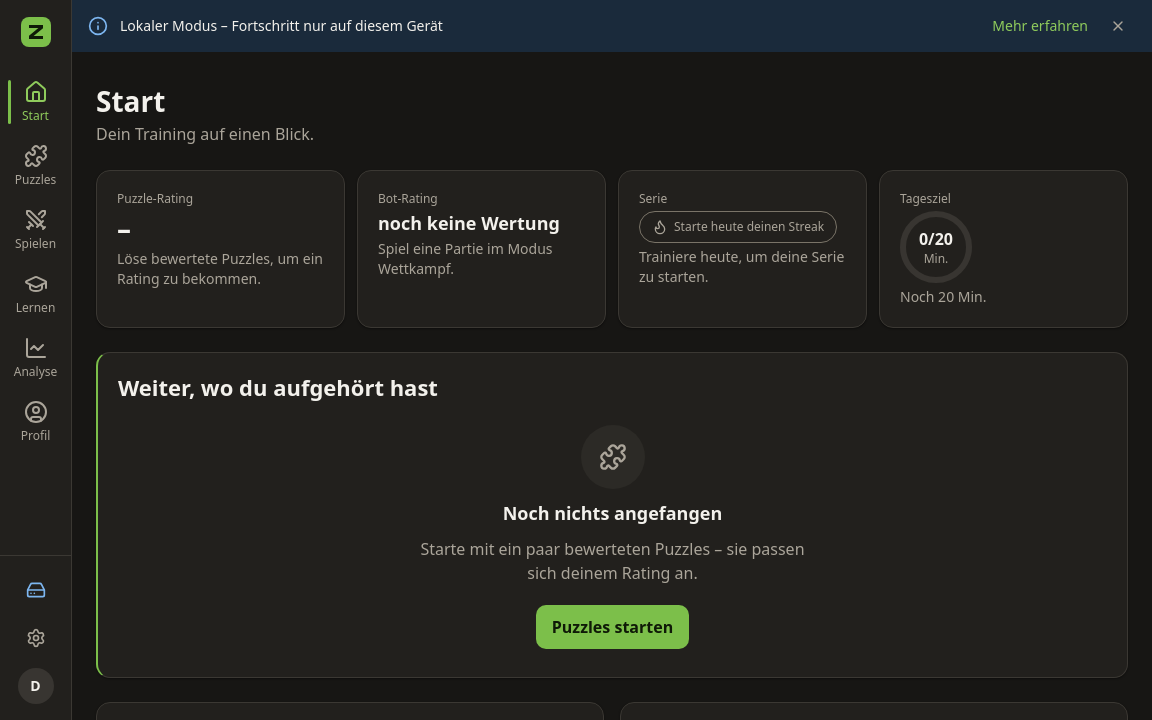
App shell › navigates between areas in one click
Expected: the heading "Start" is shown, left=96, top=82, right=165, bottom=120
Click the link "Lernen". click: (36, 294)
box: left=16, top=272, right=55, bottom=316
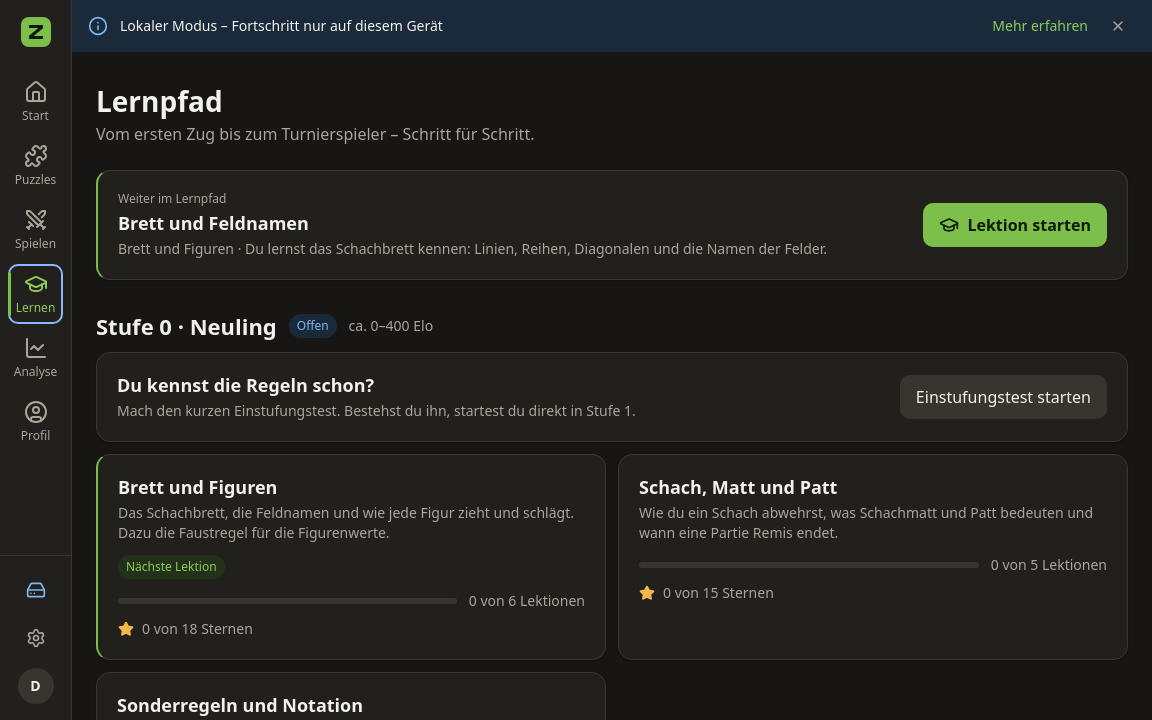
Now the heading "Lernpfad" is shown, box left=96, top=82, right=223, bottom=120
